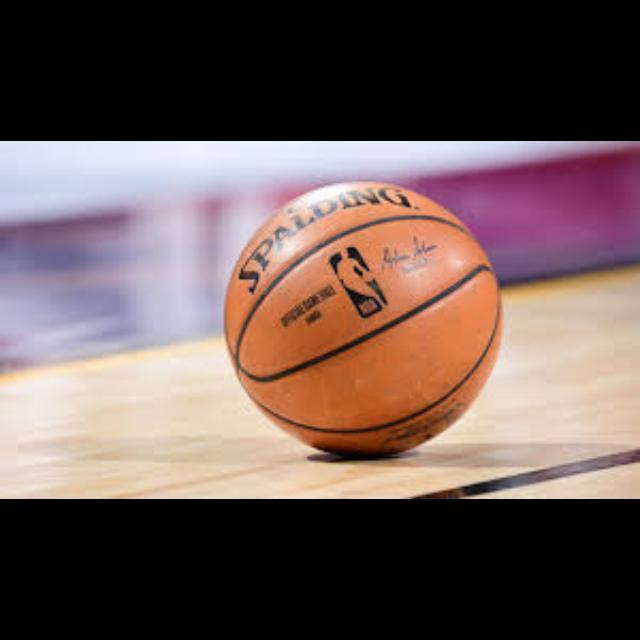basketball: (224, 182, 502, 452)
